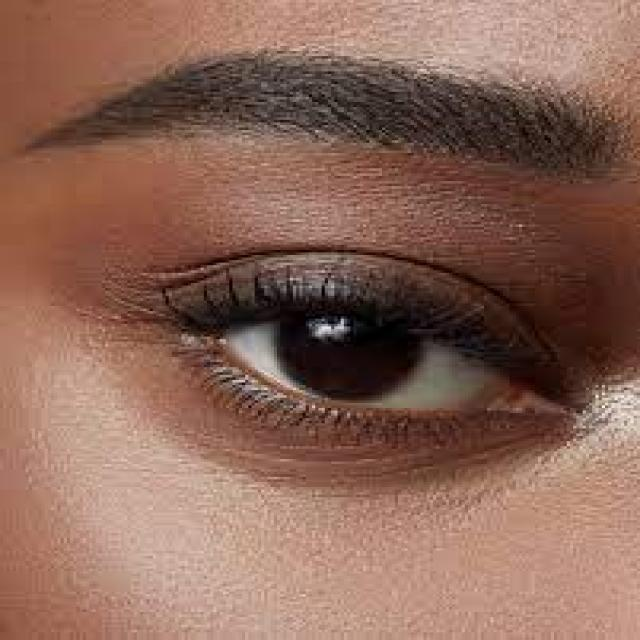Eyes-iris: (268, 292, 434, 406)
